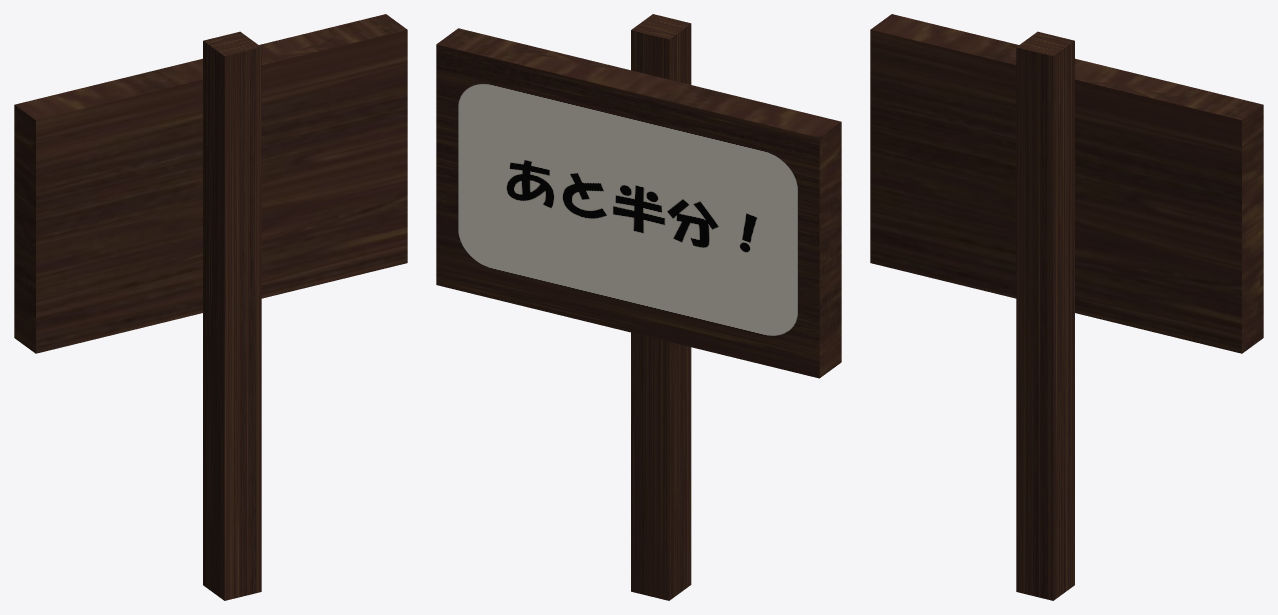
File: boad._half.fbx
The picture shows the model from 3 angles, left to right: view 1: azimuth 30°, elevation 25°; view 2: azimuth 150°, elevation 25°; view 3: azimuth 330°, elevation 25°; orthographic projection. The views are drawn at different scales.
Parts seen in each view (by area): view 1: Cube.001, Cube; view 2: Cube.001, Cube; view 3: Cube.001, Cube.
Part boxes in pixels (<box>): Cube.001: <box>14,14,407,353</box>; Cube: <box>203,31,261,600</box>; Cube.001: <box>436,28,841,378</box>; Cube: <box>631,14,691,600</box>; Cube.001: <box>870,14,1263,353</box>; Cube: <box>1016,31,1074,600</box>.
Size of the model in its own units: 250 by 350 by 50.
